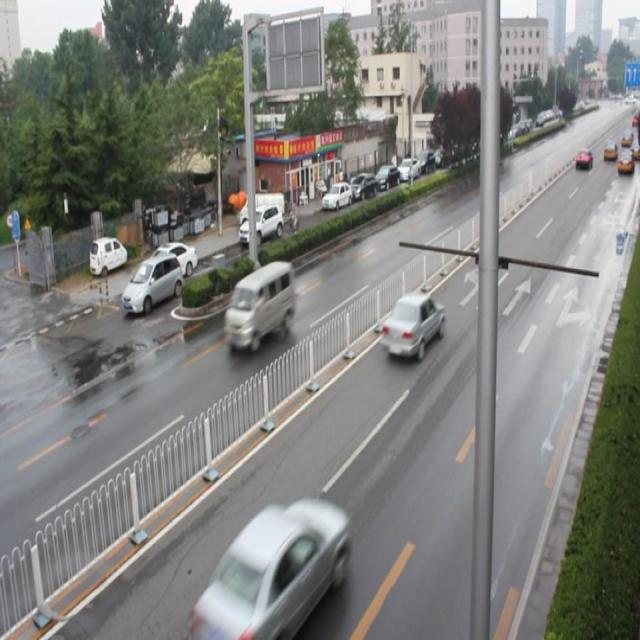car: (194, 499, 347, 626), (378, 294, 443, 358)
truck: (226, 258, 293, 350)
